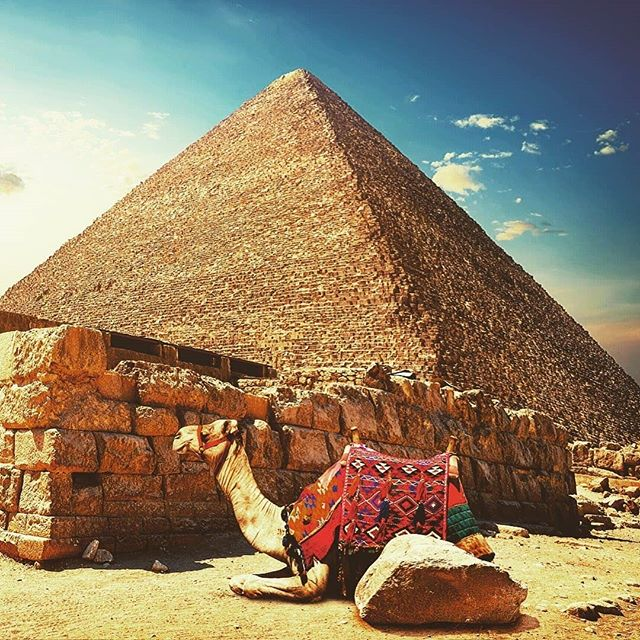animal: (173, 419, 504, 605)
pyramid: (11, 72, 640, 422)
rocks: (348, 522, 541, 640)
sky: (1, 1, 632, 347)
